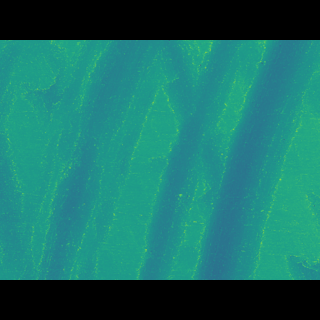Loch: (20, 68, 179, 250), (190, 69, 320, 250), (135, 69, 248, 249)
